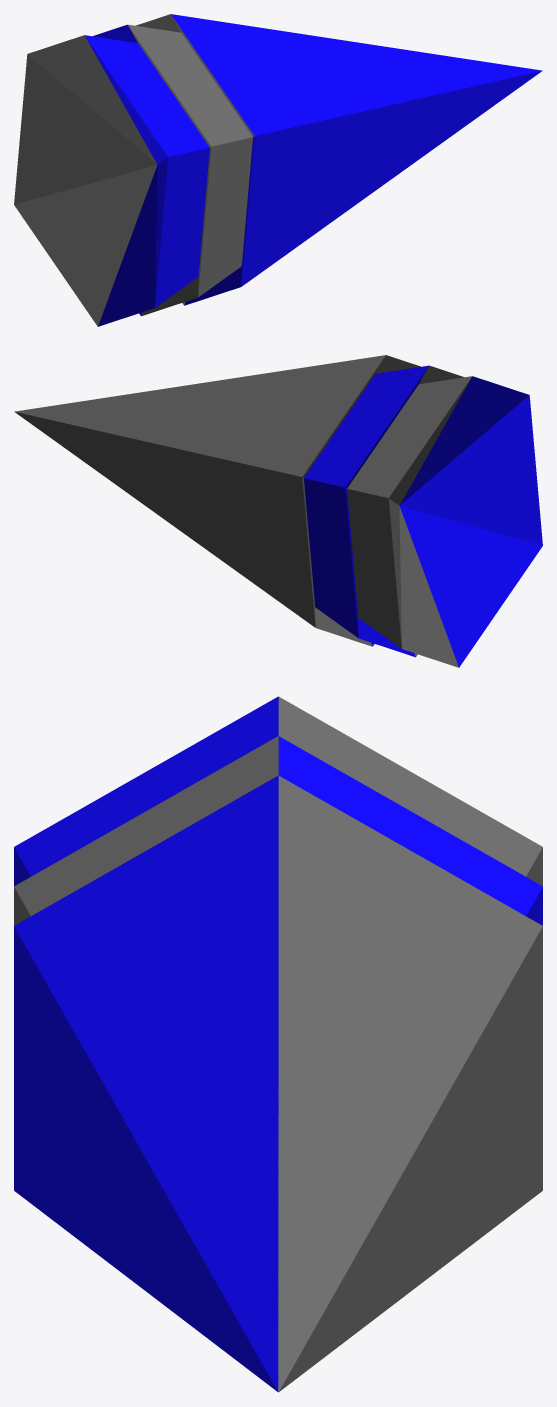
Rendered from player_model3.fbx.
The picture shows the model from 3 angles, top to bottom: view 1: azimuth 30°, elevation 25°; view 2: azimuth 150°, elevation 25°; view 3: azimuth 270°, elevation 25°; orthographic projection. The views are drawn at different scales.
Parts seen in each view (by area): view 1: Body.007, Body.003, Body.006, Body.002, Body.004, Body.005; view 2: Body.004, Body.006, Body.003, Body.005, Body.007, Body.002; view 3: Body.004, Body.007, Body.005, Body.006, Body.002, Body.003.
Boxes of the visible parts, x1=… form: Body.007: x1=171, y1=14, x2=542, y2=305; Body.003: x1=14, y1=35, x2=157, y2=326; Body.006: x1=84, y1=35, x2=209, y2=326; Body.002: x1=128, y1=24, x2=252, y2=316; Body.004: x1=136, y1=14, x2=185, y2=305; Body.005: x1=93, y1=24, x2=142, y2=315; Body.004: x1=14, y1=355, x2=385, y2=646; Body.006: x1=399, y1=376, x2=542, y2=667; Body.003: x1=347, y1=376, x2=472, y2=667; Body.005: x1=304, y1=365, x2=428, y2=657; Body.007: x1=371, y1=355, x2=420, y2=646; Body.002: x1=414, y1=365, x2=463, y2=656; Body.004: x1=278, y1=776, x2=542, y2=1392; Body.007: x1=14, y1=775, x2=278, y2=1391; Body.005: x1=278, y1=736, x2=542, y2=925; Body.006: x1=14, y1=696, x2=278, y2=886; Body.002: x1=14, y1=736, x2=278, y2=925; Body.003: x1=278, y1=697, x2=542, y2=886.
Size of the model in its own units: 531 by 327 by 283.
